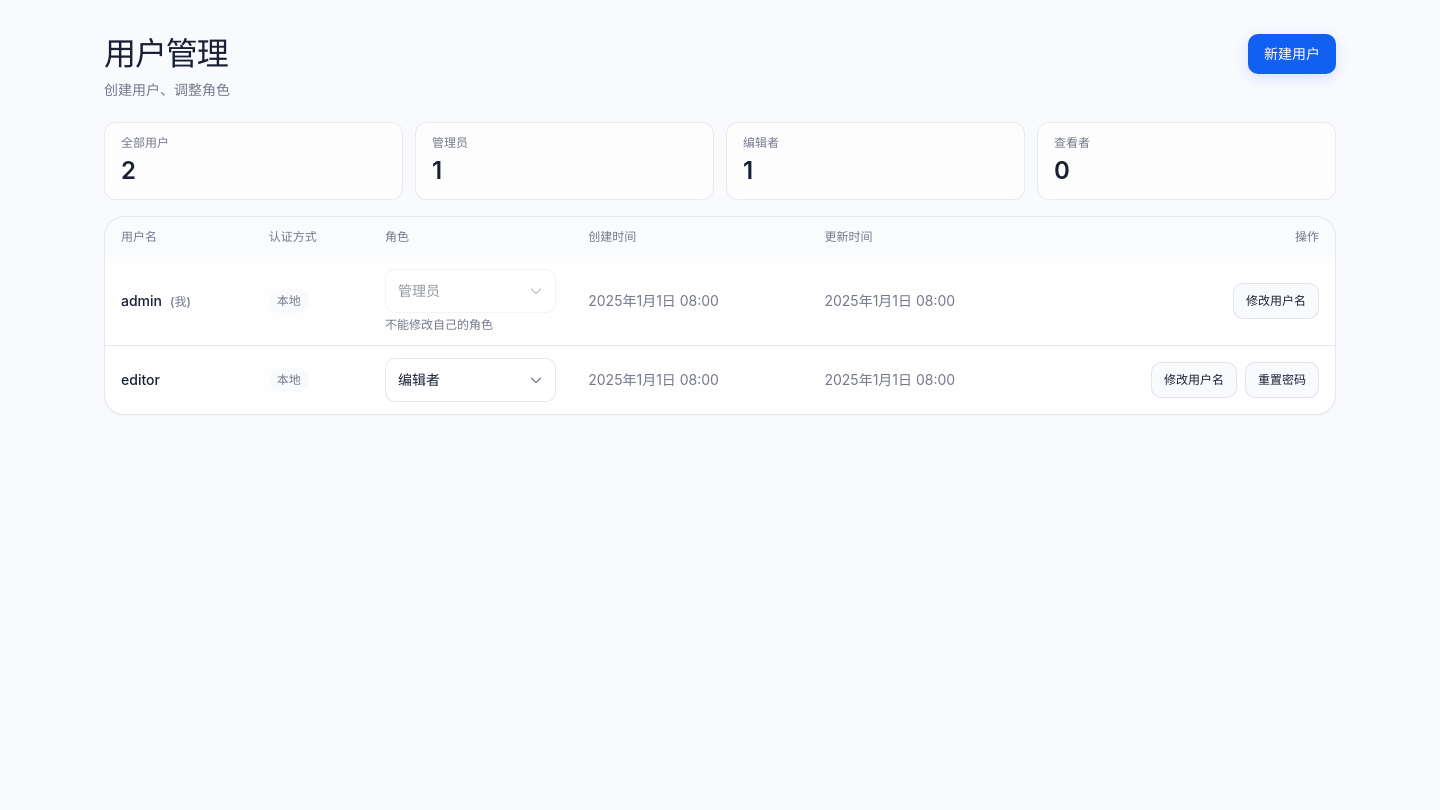
it: AdminUsersPage › resets a user password after confirming it
This screenshot has width=1440, height=810.
Later steps or results of the test are not shown.
Expected: the text "editor" is shown, [105,346,253,414]
What coordinates should you click on to do the following:
click the button with aria-label "重置 editor 的密码"
I would click on:
 (1282, 380)
Its box is [1245,362,1319,398].
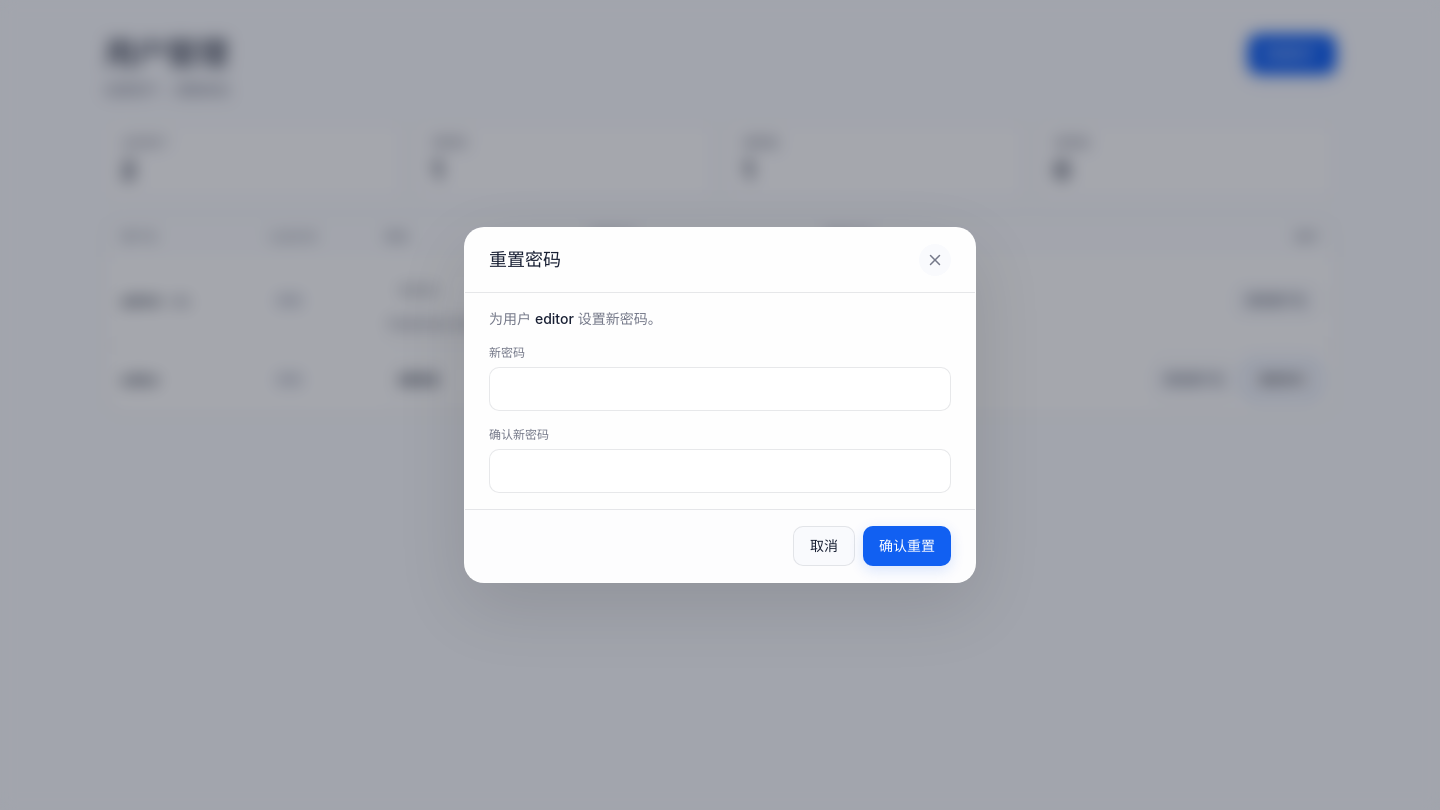
Expected: the dialog "重置密码" is shown, [464,227,976,583]
